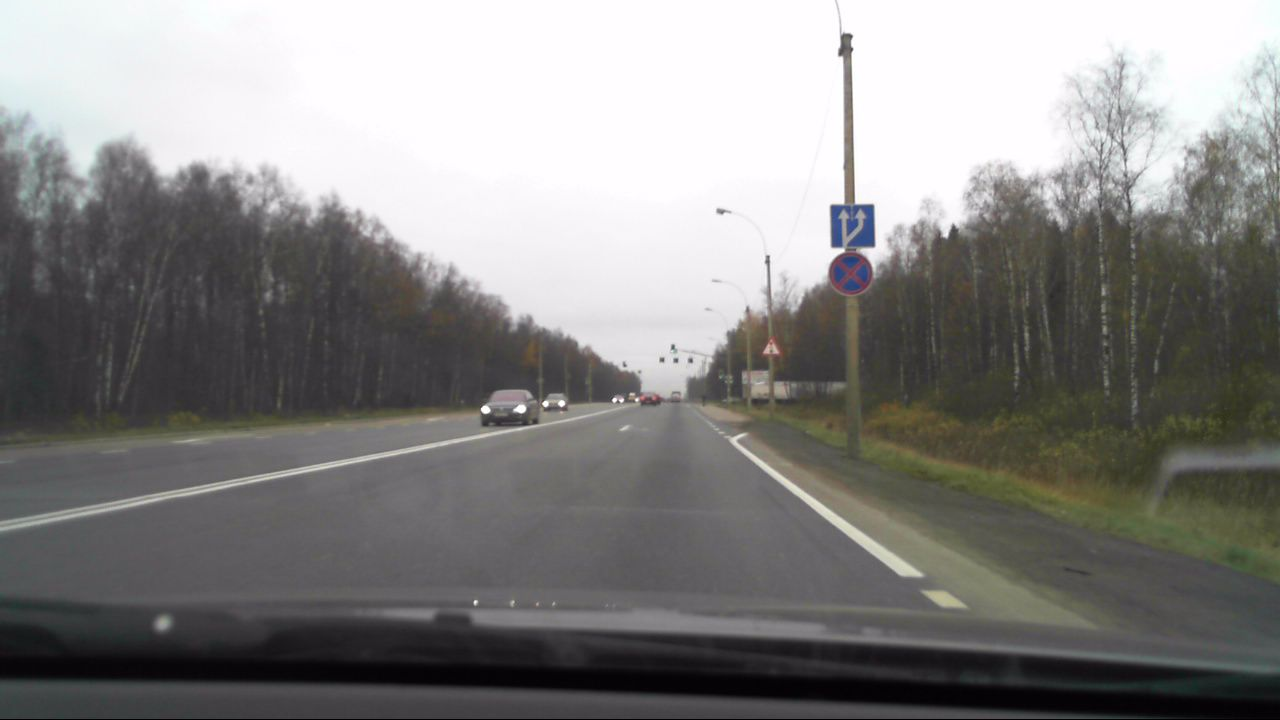No Parking: (827, 253, 874, 295)
